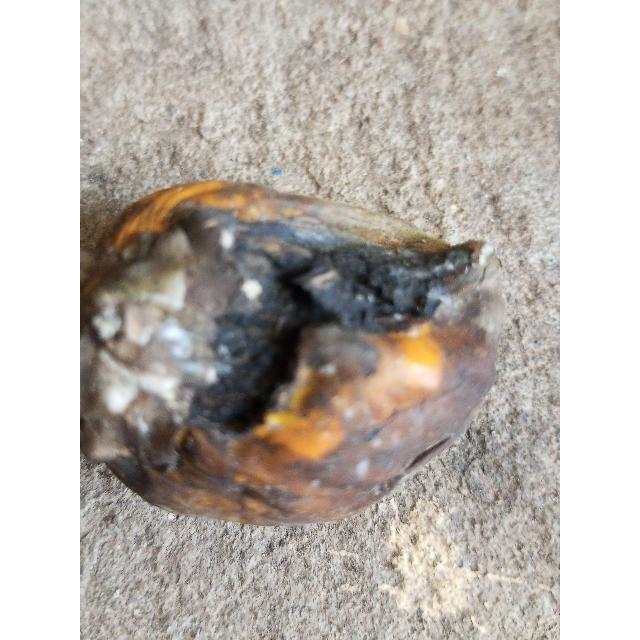damaged: (80, 180, 498, 531)
